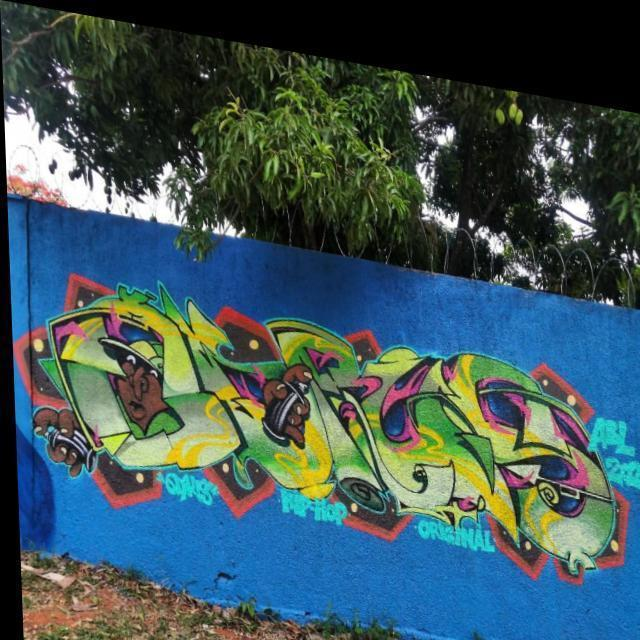nonspitting: (16, 272, 640, 585)
